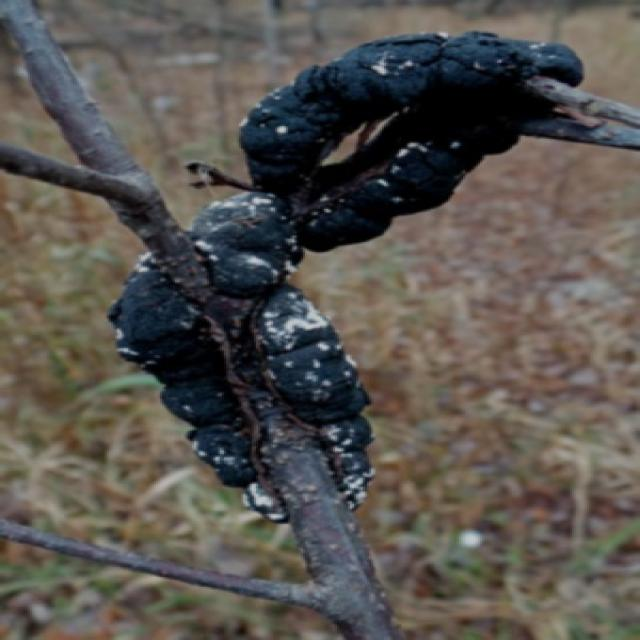Black_knot: (104, 27, 586, 524)
